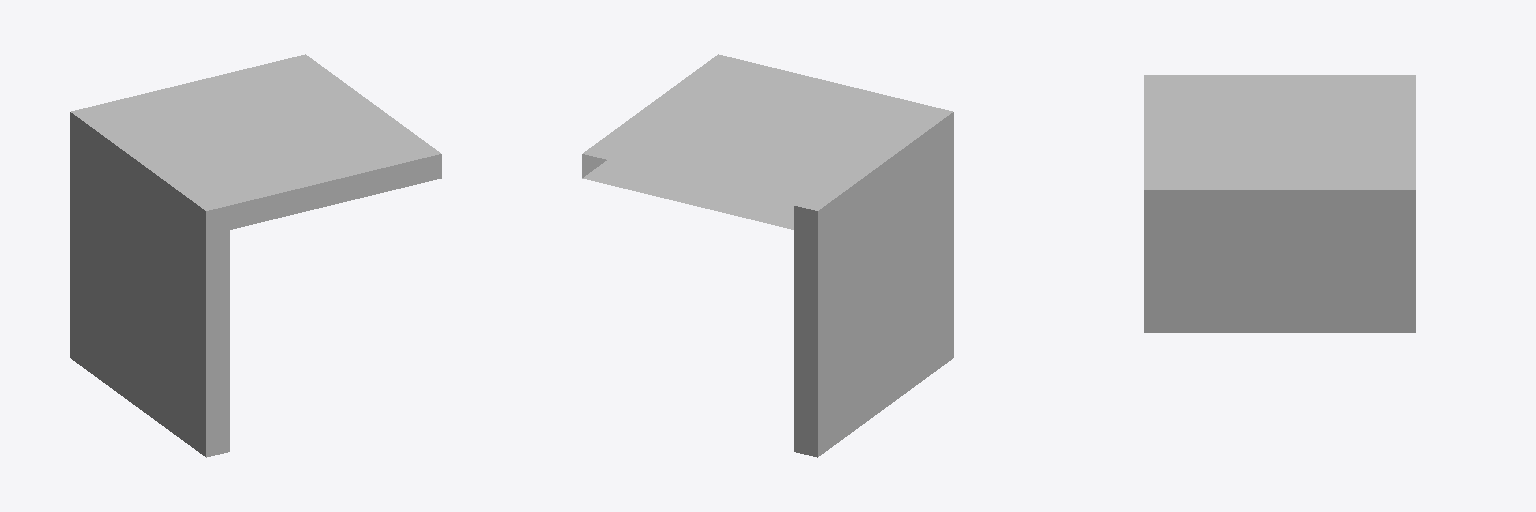
File: tiles_wall_door_roof_ceiling.obj
The picture shows the model from 3 angles: view 1: azimuth 30°, elevation 25°; view 2: azimuth 150°, elevation 25°; view 3: azimuth 270°, elevation 25°; orthographic projection.
Visible parts, largest first — view 1: Wall_Roof_West_Door_Cube.019; view 2: Wall_Roof_West_Door_Cube.019; view 3: Wall_Roof_West_Door_Cube.019.
Part boxes in pixels (x1,y1,x2,y2): Wall_Roof_West_Door_Cube.019: (70, 54, 441, 457); Wall_Roof_West_Door_Cube.019: (582, 54, 953, 457); Wall_Roof_West_Door_Cube.019: (1144, 75, 1415, 332).
Size of the model in its own units: 2 by 2 by 2.